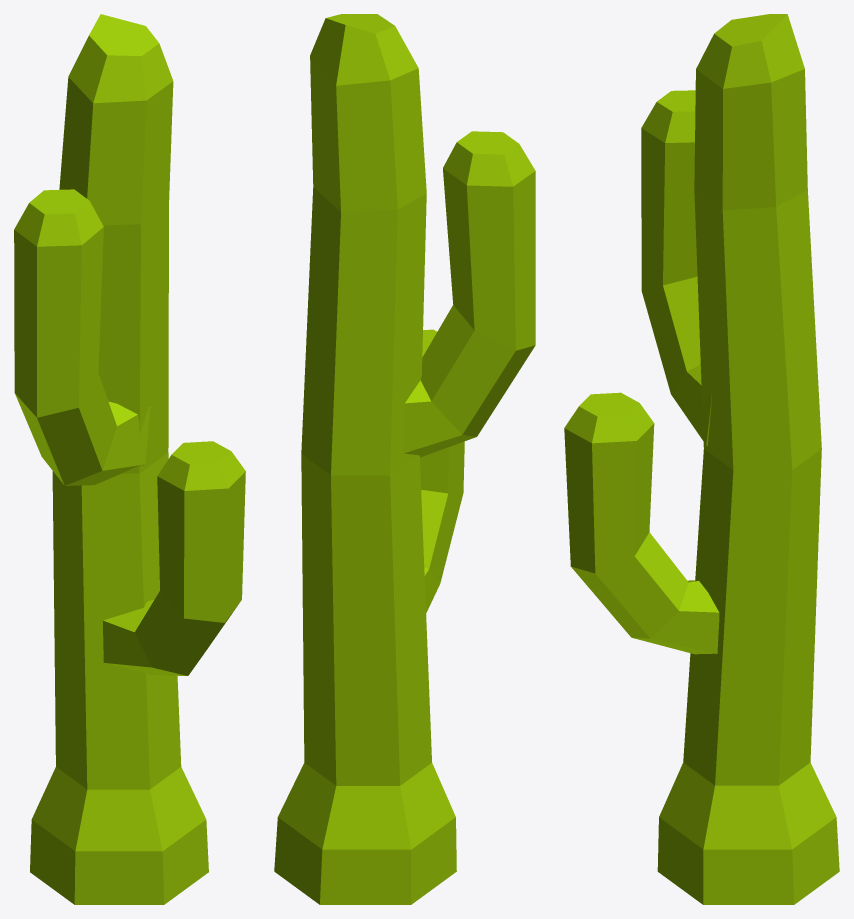
The model's file is Tree_Cactus_3.fbx.
The picture shows the model from 3 angles, left to right: view 1: azimuth 30°, elevation 25°; view 2: azimuth 150°, elevation 25°; view 3: azimuth 270°, elevation 25°; orthographic projection.
Visible parts, largest first — view 1: Tree Cactus 3; view 2: Tree Cactus 3; view 3: Tree Cactus 3.
Boxes of the visible parts, box(x1,y1,x2,y2) form: Tree Cactus 3: box(14, 14, 245, 904); Tree Cactus 3: box(274, 14, 535, 904); Tree Cactus 3: box(564, 14, 839, 904).
Bounding box in the file's own units: 417 × 1742 × 507.
